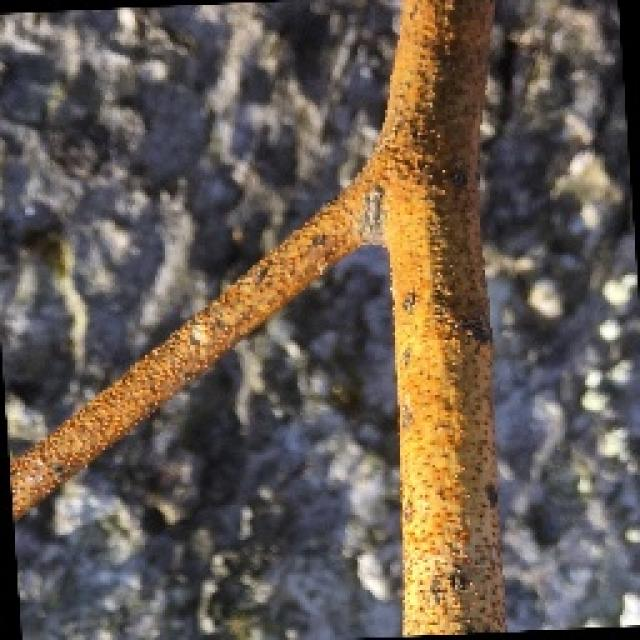Golden_canker: (17, 0, 618, 640)
